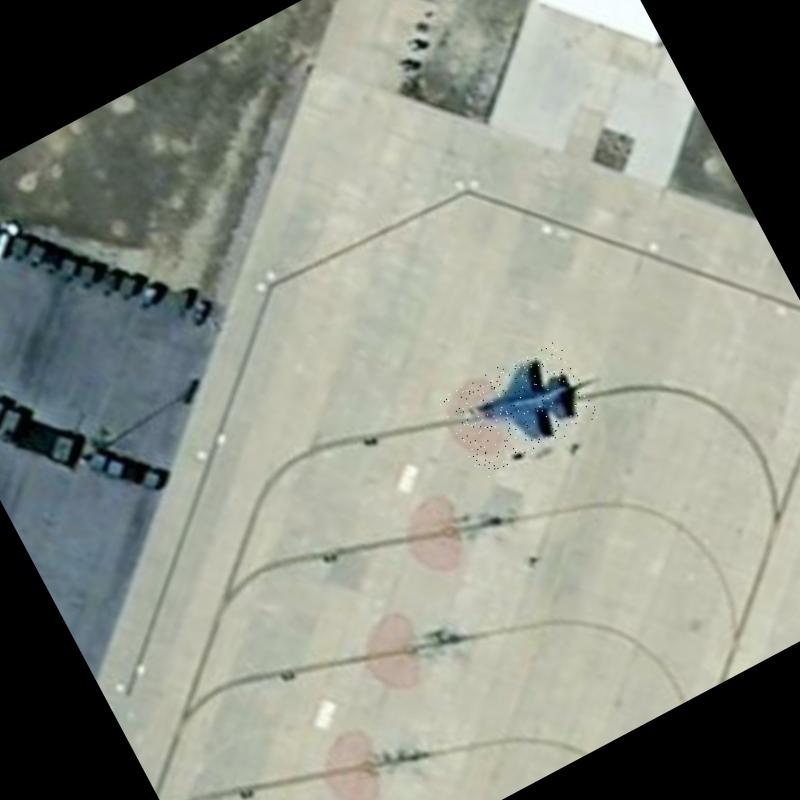A5: (436, 335, 600, 481)
